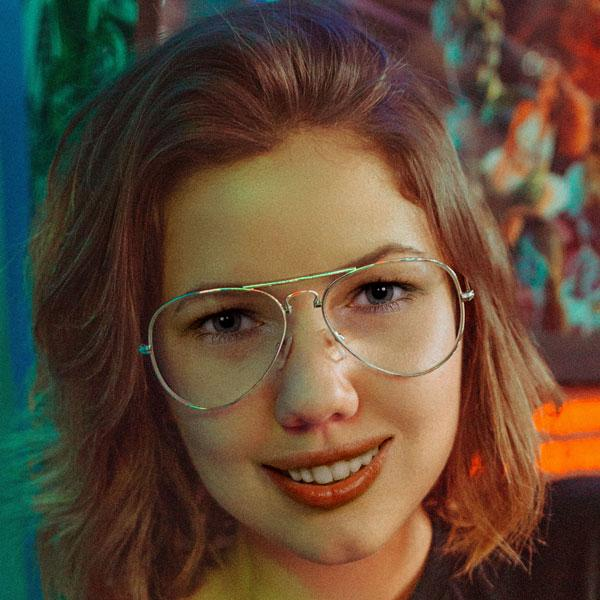Eyes: (178, 291, 275, 359), (336, 268, 424, 332)
